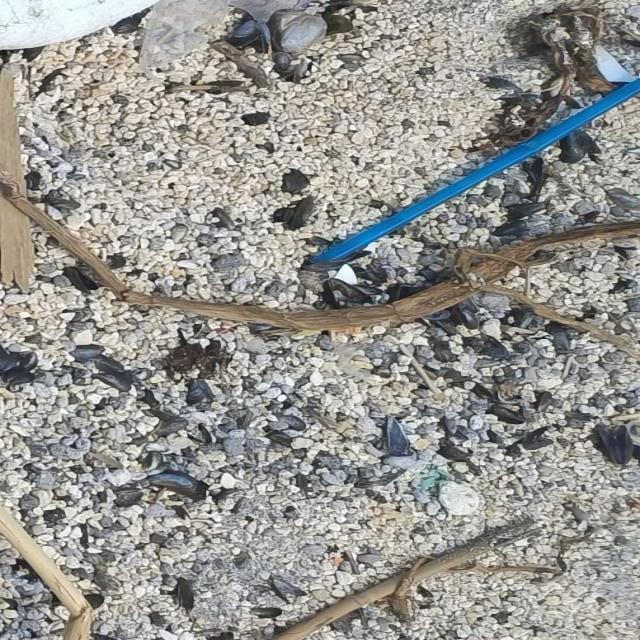litter: (306, 77, 640, 266)
